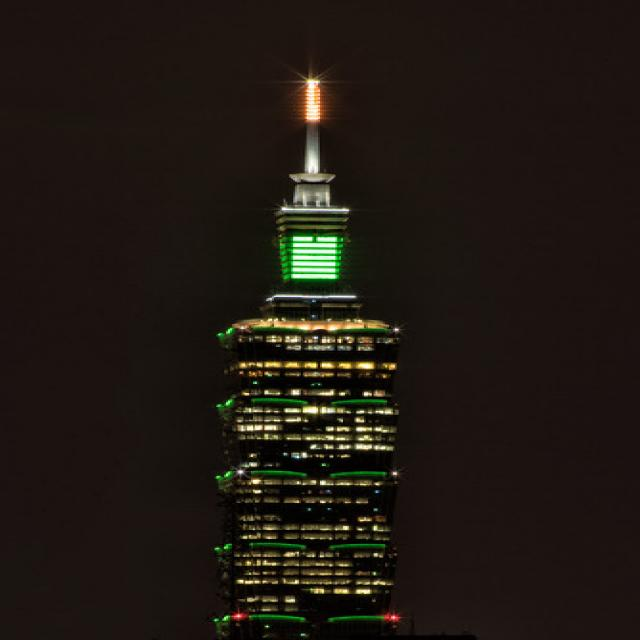Normal_building: (203, 167, 414, 638)
